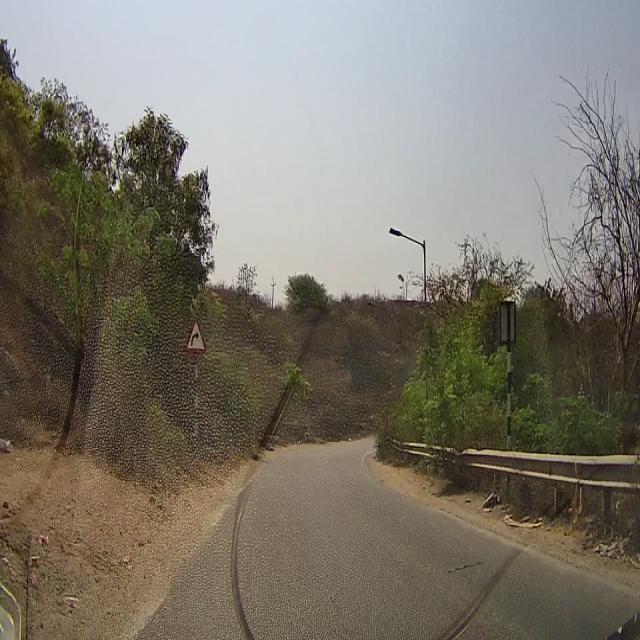right-hand-curve: (186, 321, 204, 349)
